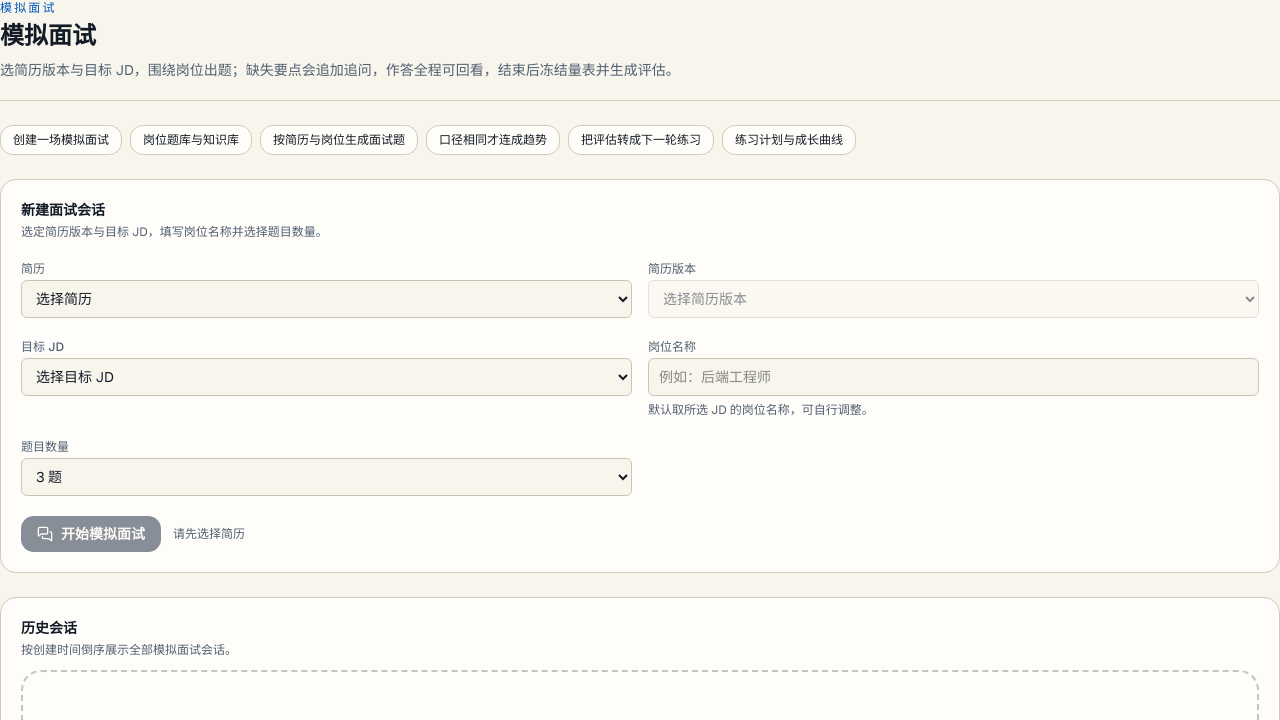
Test: InterviewPage › MODEL_NOT_CONFIGURED 时显示中文引导而不是英文原文
Select "前端工程师简历" in the dropdown labelled "简历": (326, 299) top-left (21, 280), bottom-right (632, 318)
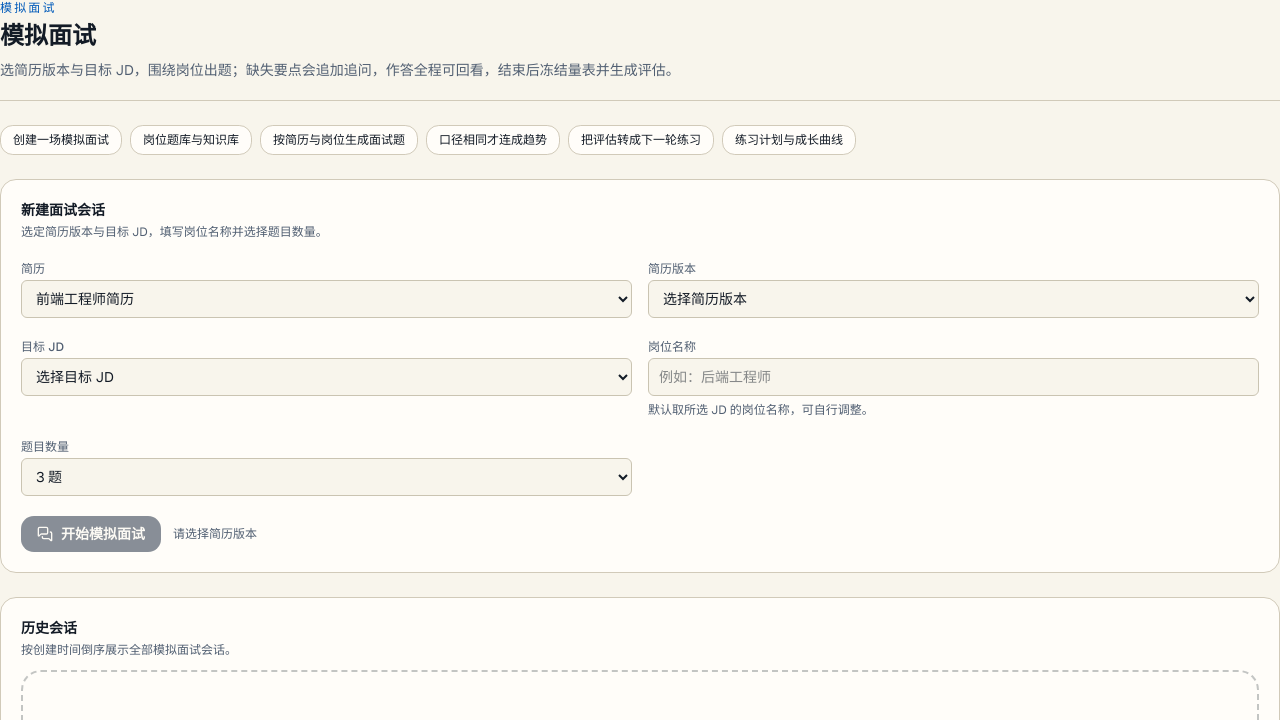
Select "首个版本" in the dropdown labelled "简历版本": (954, 299) top-left (648, 280), bottom-right (1259, 318)
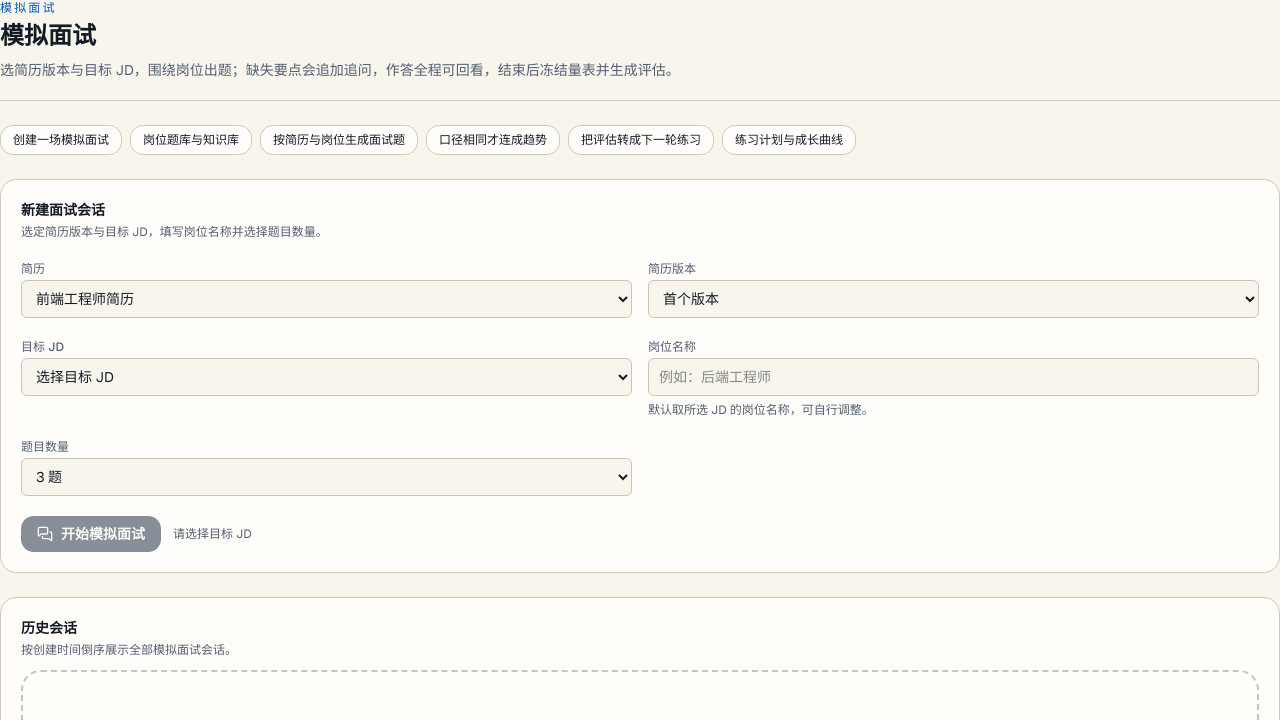
Select "前端工程师 · 示例公司" in the dropdown labelled "目标 JD": (326, 377) top-left (21, 358), bottom-right (632, 396)
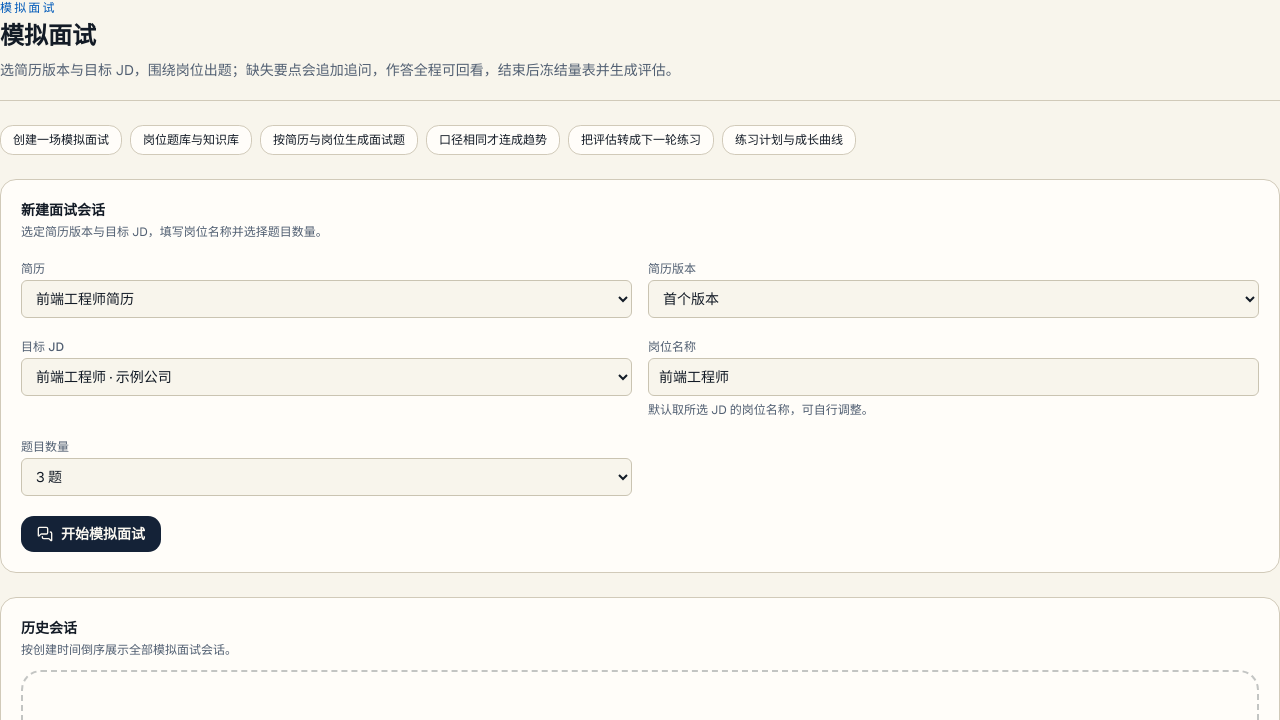
Expected: the field labelled "岗位名称" holds "前端工程师", top-left (648, 358), bottom-right (1259, 396)
Click the button "开始模拟面试": (91, 534) top-left (21, 516), bottom-right (161, 552)
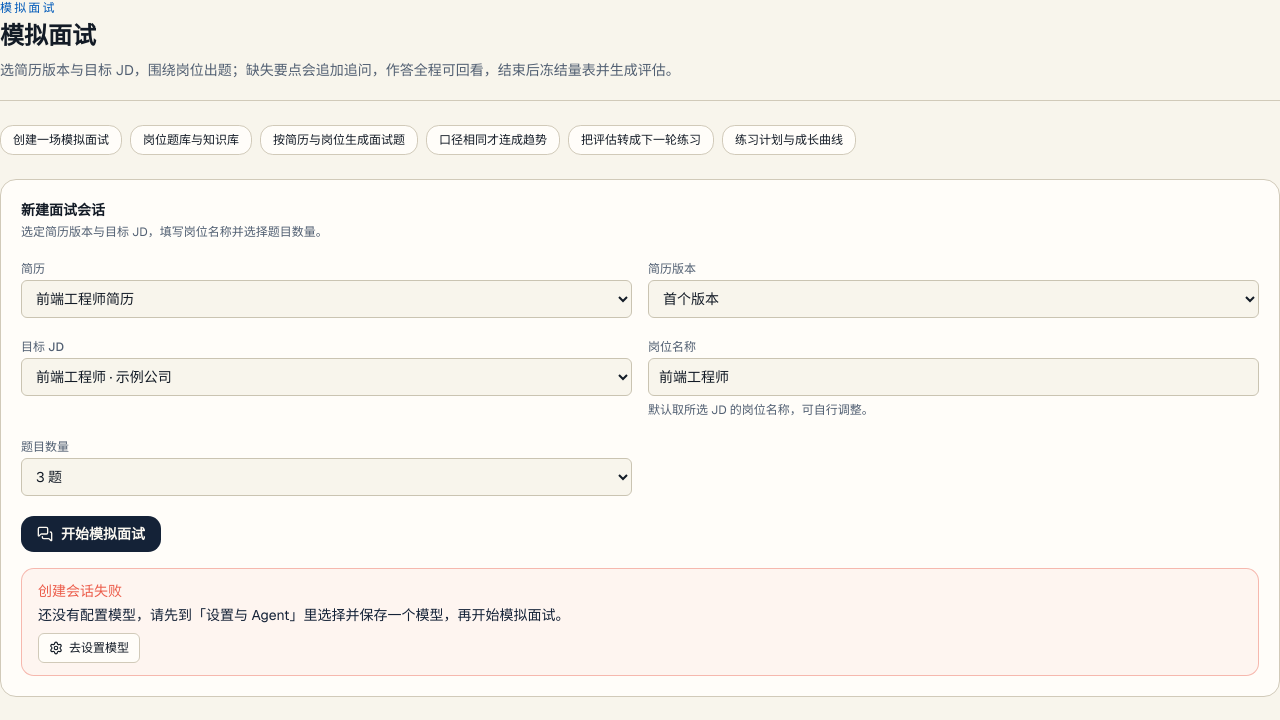
Expected: the message does not show "model provider is not configured", top-left (21, 568), bottom-right (1259, 676)
Expected: the message shows "还没有配置模型，请先到「设置与 Agent」里选择并保存一个模型，再开始模拟面试。", top-left (38, 606), bottom-right (570, 624)
Expected: the link "去设置模型" is shown, top-left (38, 633), bottom-right (140, 663)
